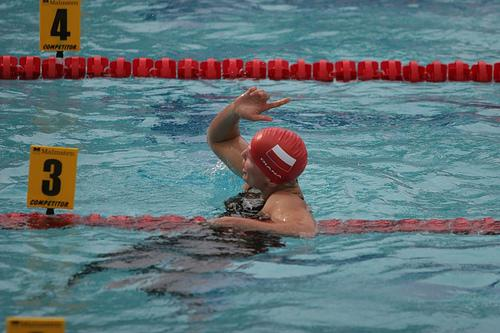swimmer: (203, 86, 318, 240)
